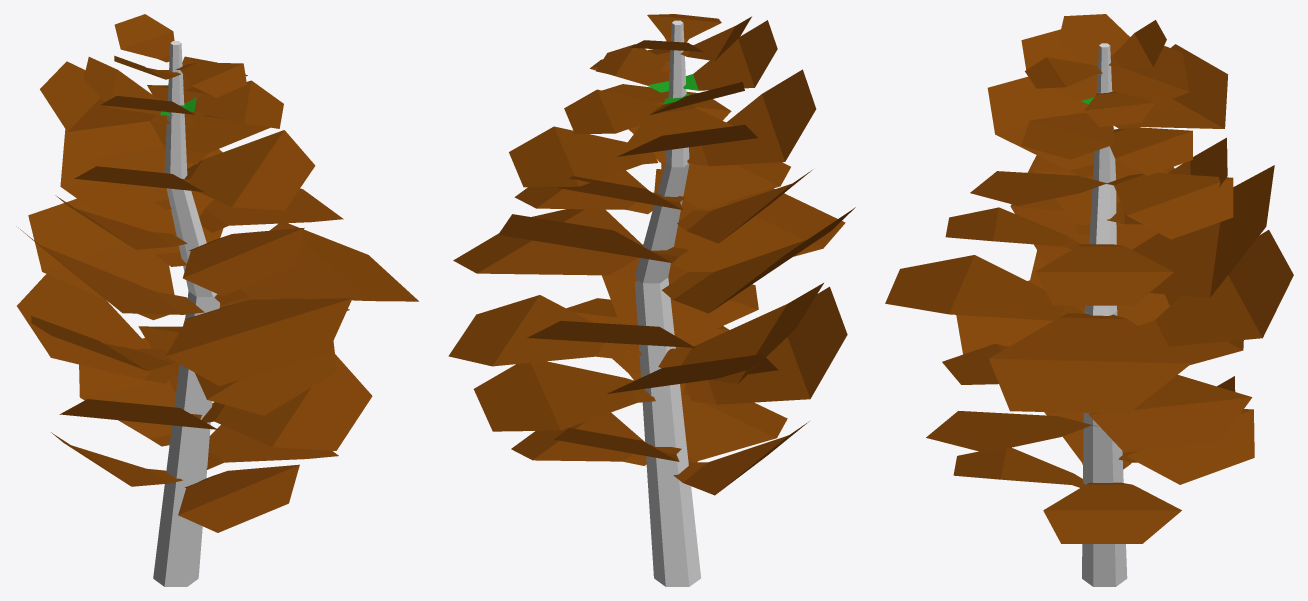
The model's file is arbol_three.fbx.
3 views of the same model, side by side, from view 1: azimuth 30°, elevation 25°; view 2: azimuth 150°, elevation 25°; view 3: azimuth 270°, elevation 25° (orthographic). The views are drawn at different scales.
Parts seen in each view (by area): view 1: Cylinder, Cylinder.001; view 2: Cylinder, Cylinder.001; view 3: Cylinder, Cylinder.001.
Boxes of the visible parts, bbox=[...] form: Cylinder: bbox=[16, 14, 418, 532]; Cylinder.001: bbox=[153, 41, 219, 586]; Cylinder: bbox=[448, 14, 855, 495]; Cylinder.001: bbox=[634, 20, 700, 586]; Cylinder: bbox=[885, 14, 1293, 543]; Cylinder.001: bbox=[1082, 43, 1127, 586].
Size of the model in its own units: 1759 by 2636 by 1804.
